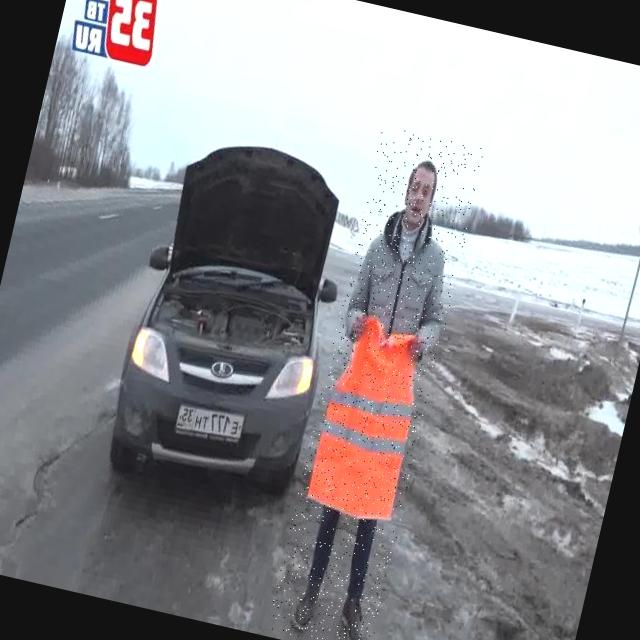vest: (299, 312, 434, 530)
